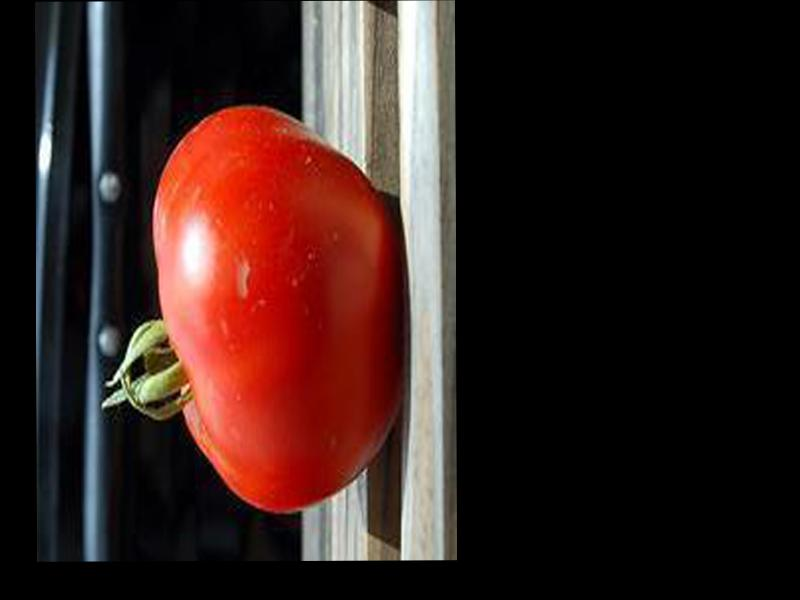Tomato: (103, 106, 399, 511)
